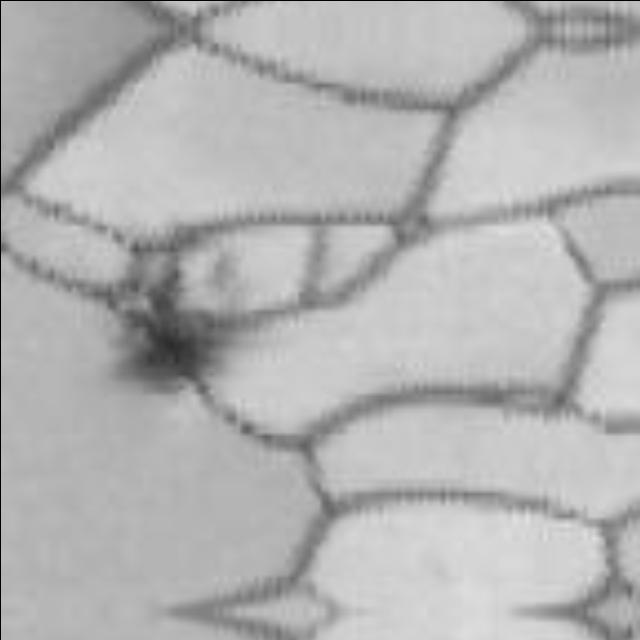good_void: (86, 268, 227, 413)
